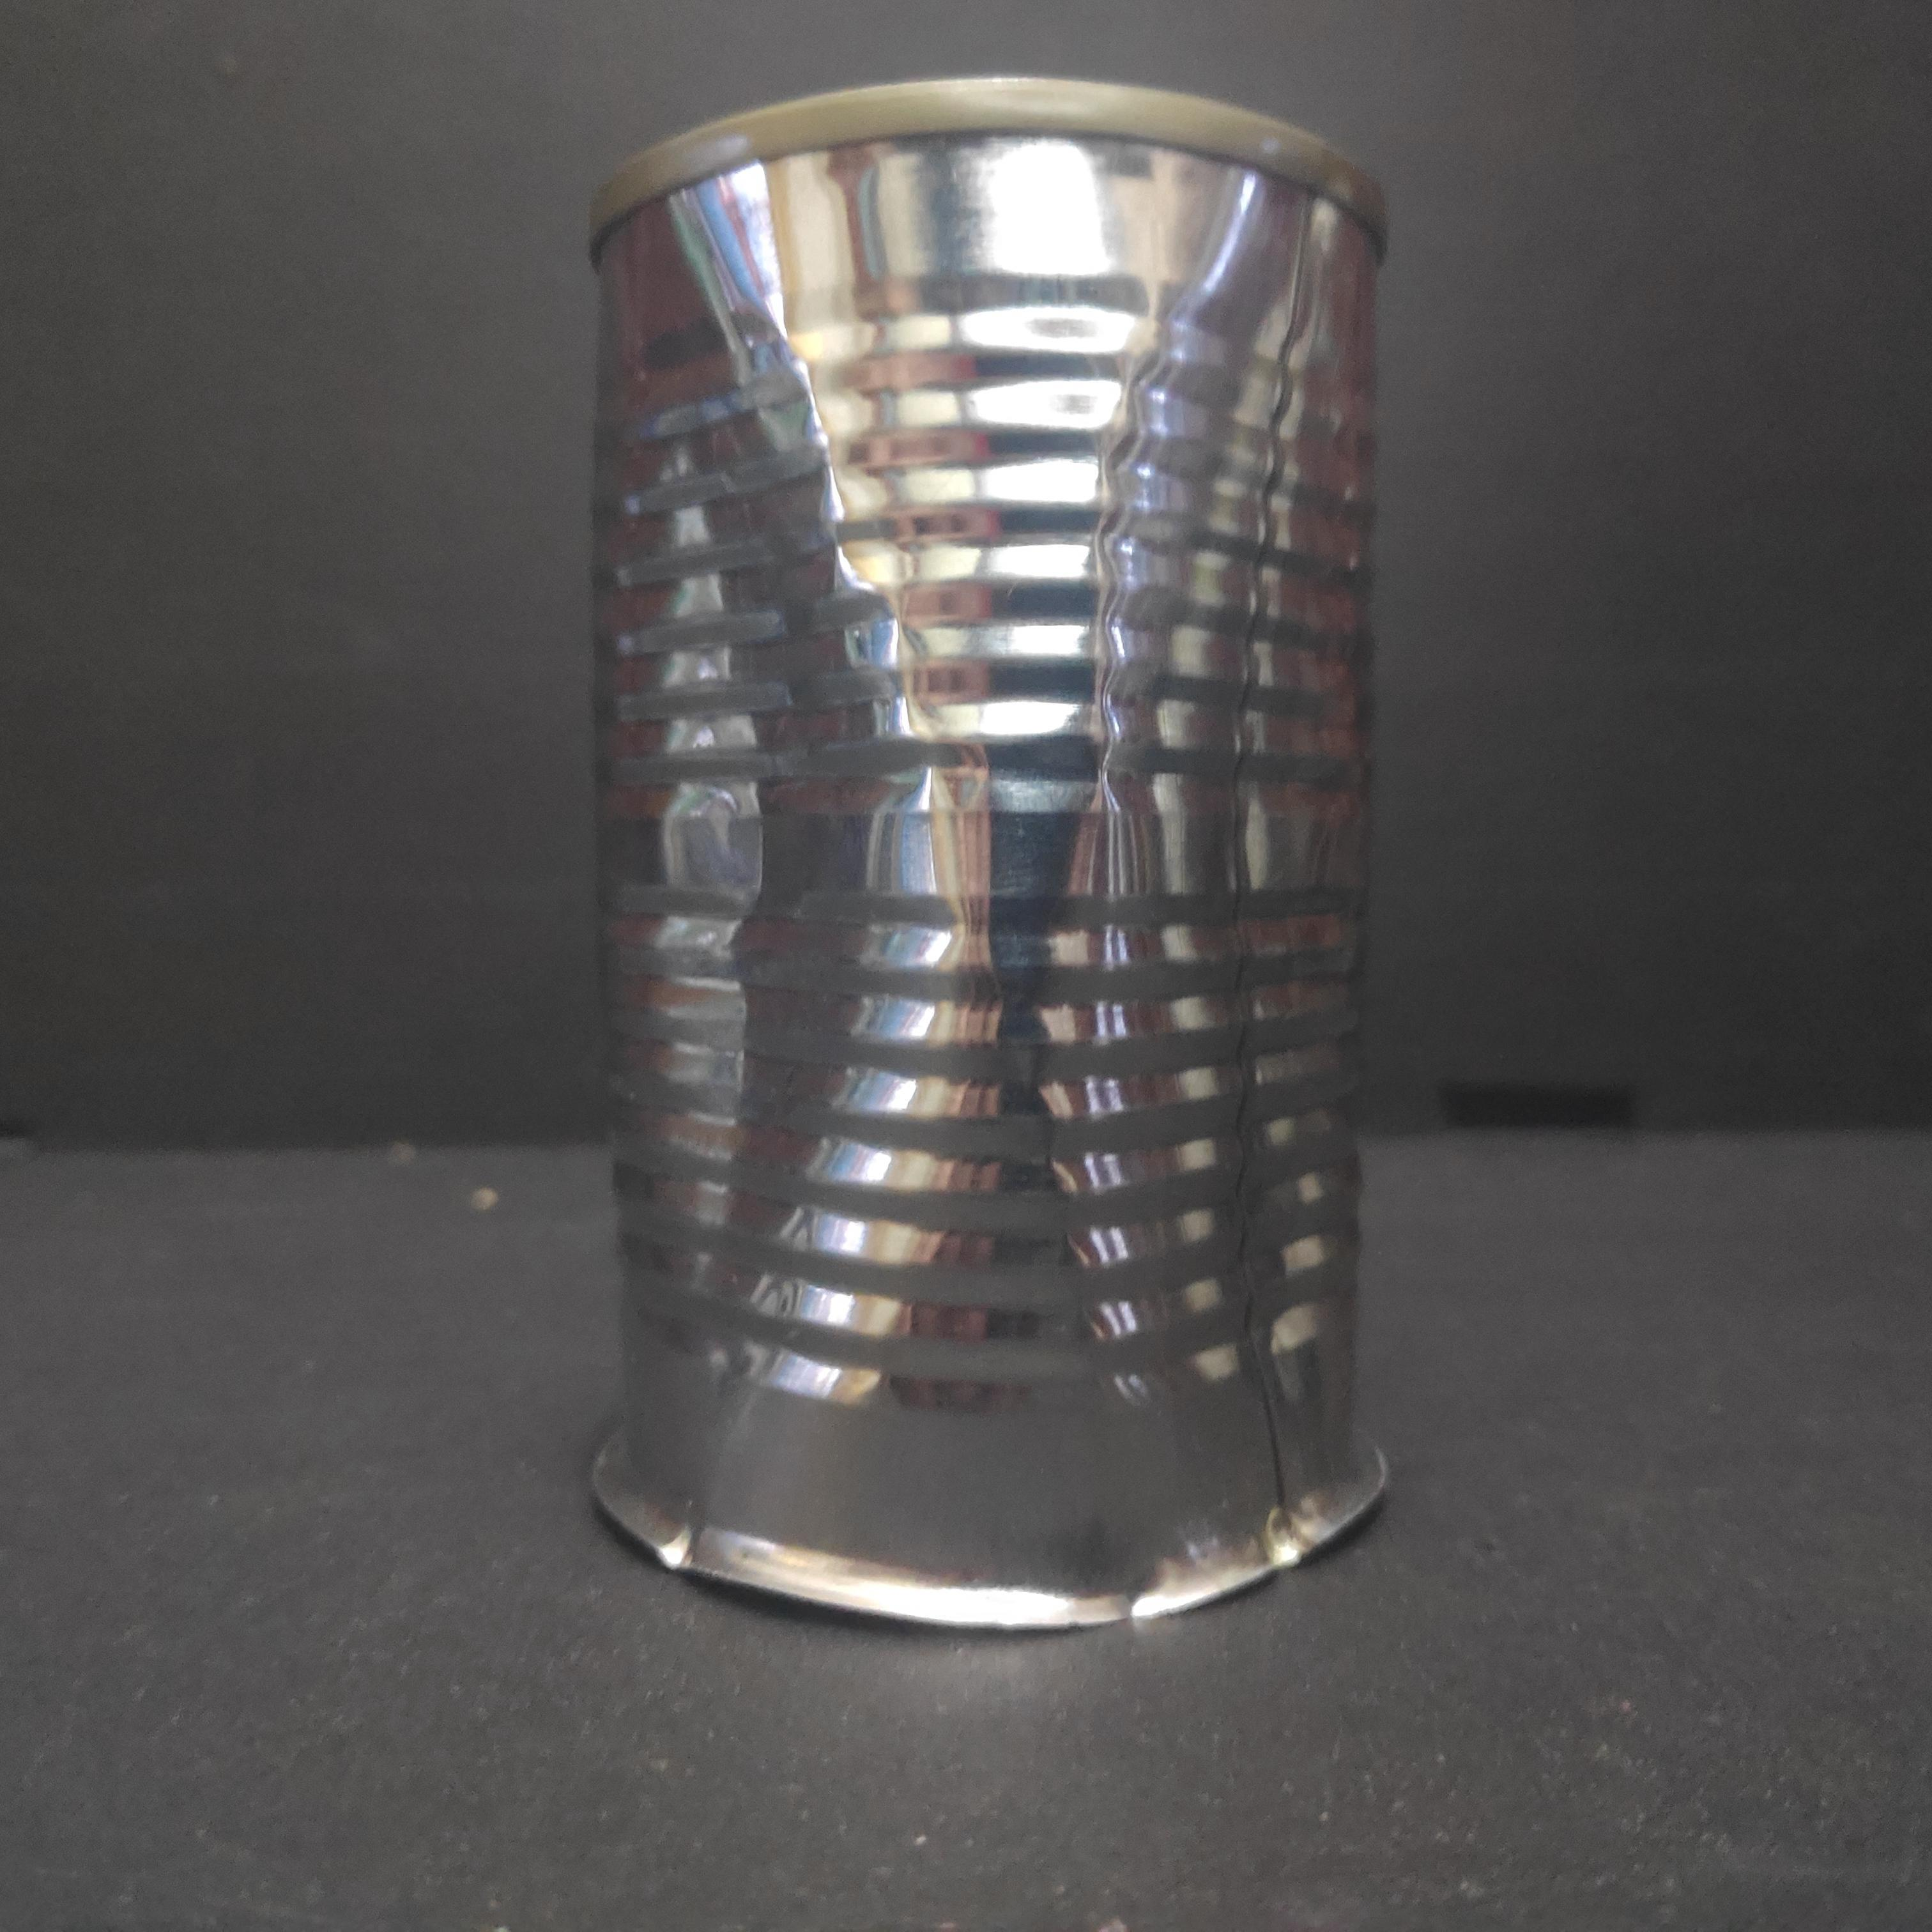Dented: (568, 71, 1431, 1670)
